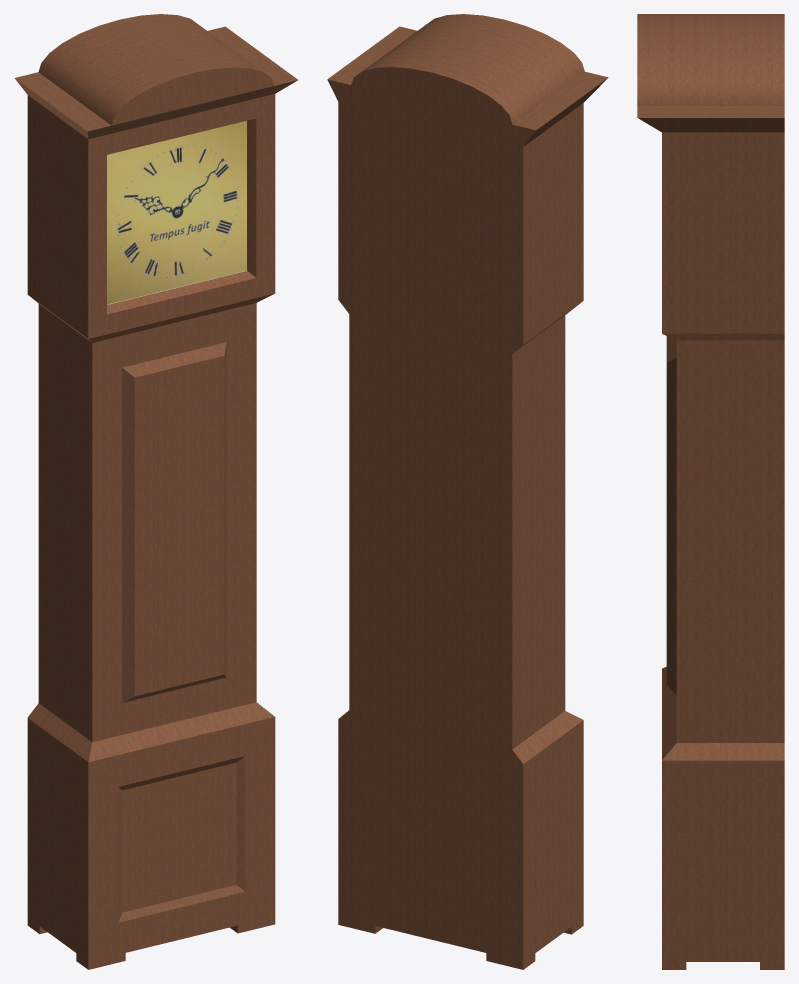
The model's file is sweethome3d-contributions-longcase-clock.glb.
3 views of the same model, side by side, from view 1: azimuth 30°, elevation 25°; view 2: azimuth 150°, elevation 25°; view 3: azimuth 270°, elevation 25° (orthographic).
Parts seen in each view (by area): view 1: 1_1, 3_2, 9_5, 11_6, 5_3, 7_4; view 2: 1_1; view 3: 1_1, 3_2.
Part boxes in pixels (x1,y1,x2,y2): 1_1: (14,14,297,969); 3_2: (122,342,226,702); 9_5: (107,121,246,304); 11_6: (107,121,246,304); 5_3: (118,756,245,922); 7_4: (107,118,256,314); 1_1: (327,14,608,969); 1_1: (637,14,784,969); 3_2: (666,336,676,695).
Size of the model in its own units: 50 by 200 by 30.
3 materials, 2 textured.
